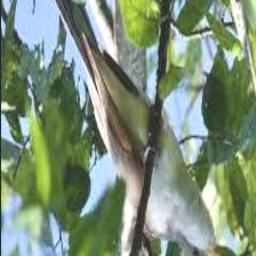Cuckoo: (35, 0, 227, 256)
